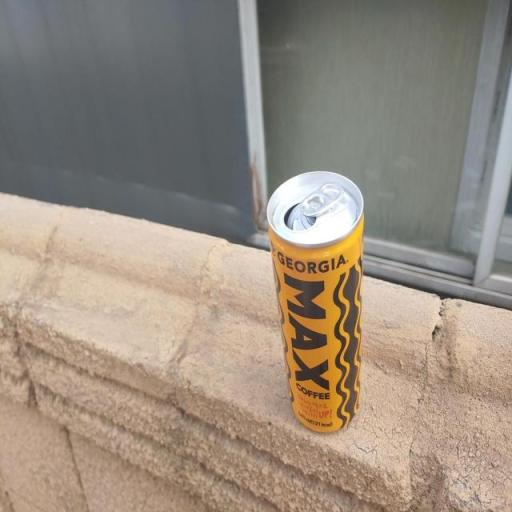metal: (251, 158, 383, 440)
